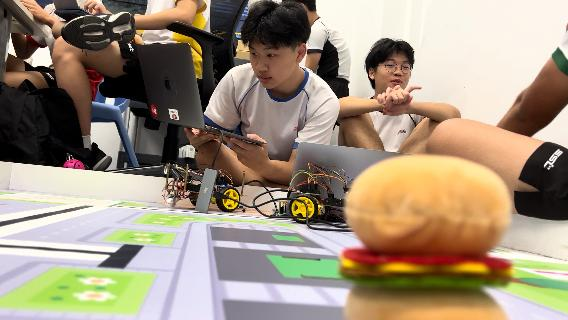burger: (340, 150, 522, 310)
